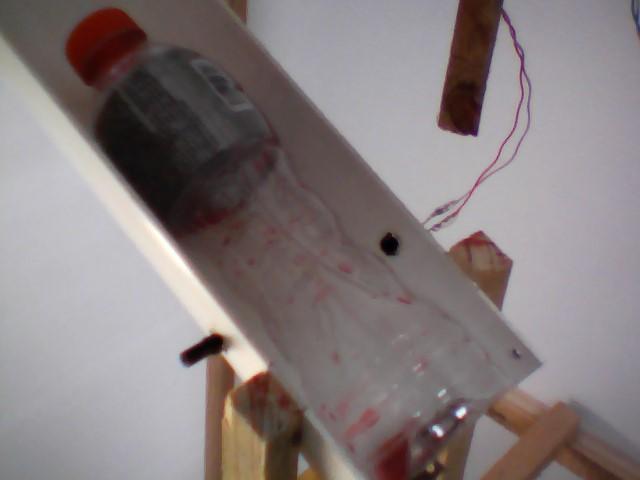plastico: (63, 5, 517, 480)
